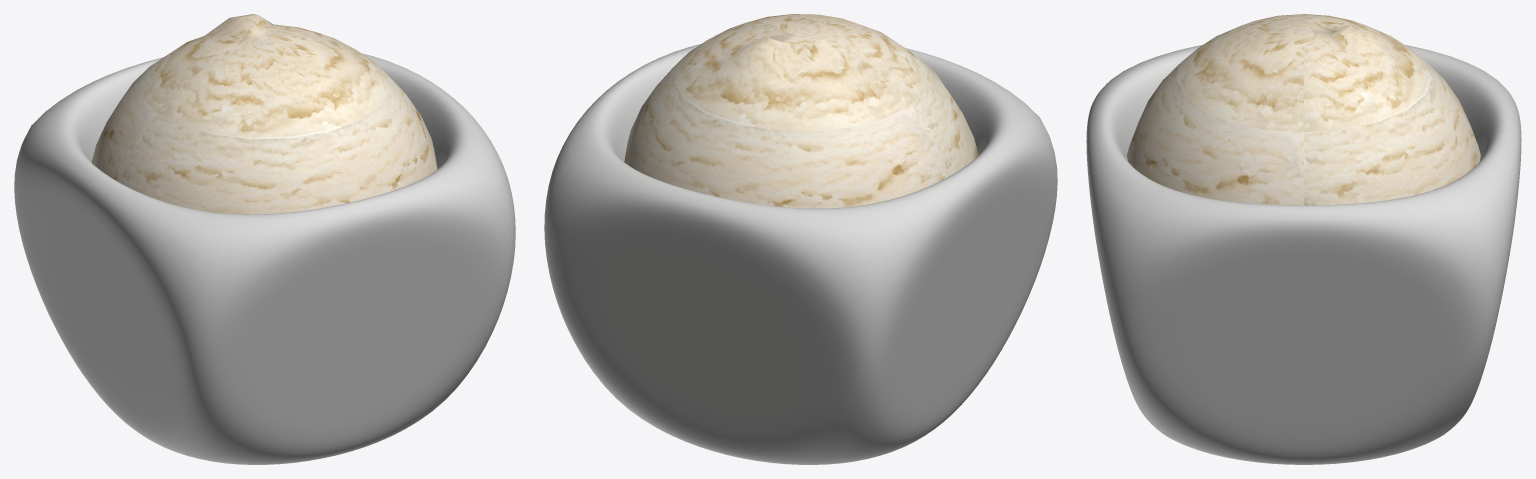
Rendered from icecream.fbx.
3 views of the same model, side by side, from view 1: azimuth 30°, elevation 25°; view 2: azimuth 150°, elevation 25°; view 3: azimuth 270°, elevation 25° (orthographic). The views are drawn at different scales.
Parts seen in each view (by area): view 1: pCube1, pSphere1; view 2: pCube1, pSphere1; view 3: pCube1, pSphere1.
Part boxes in pixels (x1,y1,x2,y2): pCube1: (14,53,515,464); pSphere1: (91,14,437,214); pCube1: (544,44,1057,464); pSphere1: (624,14,978,208); pCube1: (1086,45,1521,464); pSphere1: (1127,14,1480,205).
Bounding box in the file's own units: 11.2 × 10.88 × 11.2.
Materials: 2 (1 with a texture image).
